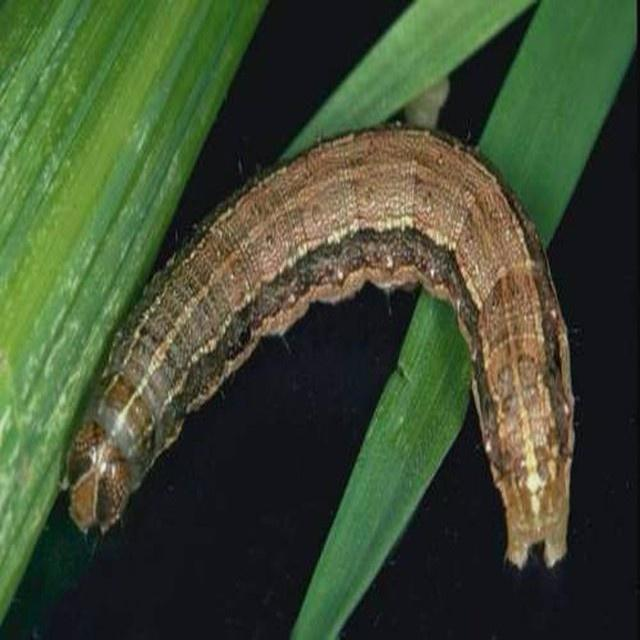gusano_cogollero: (64, 123, 574, 570)
